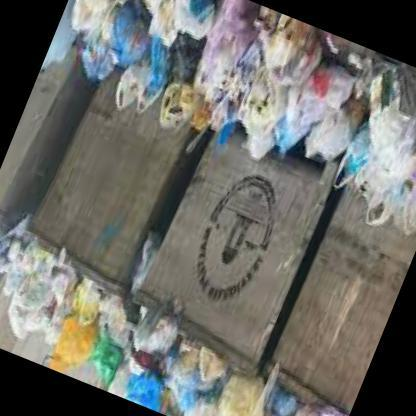Garbage: (122, 0, 386, 175), (262, 195, 415, 409), (0, 281, 183, 405), (156, 344, 349, 415), (336, 59, 415, 214), (51, 0, 166, 83), (0, 229, 39, 318)
